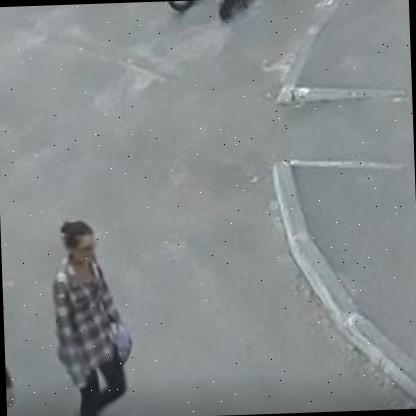person: (44, 209, 140, 416)
